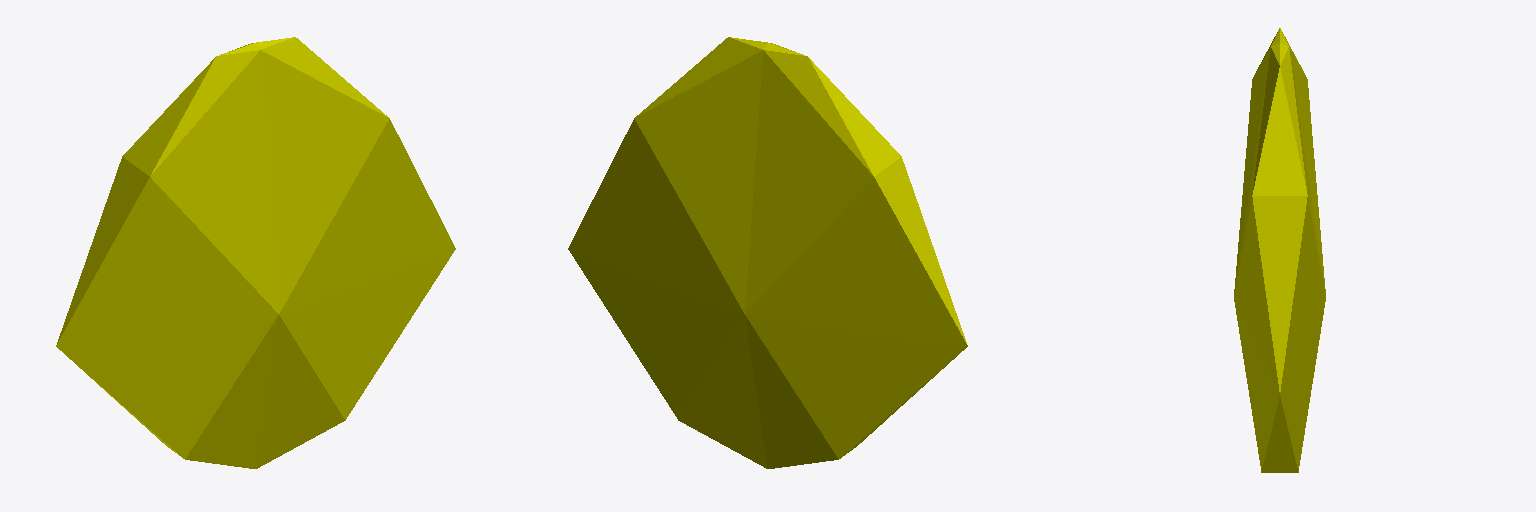
The model's file is yellowButton.obj.
3 views of the same model, side by side, from view 1: azimuth 30°, elevation 25°; view 2: azimuth 150°, elevation 25°; view 3: azimuth 270°, elevation 25° (orthographic).
Visible parts, largest first — view 1: Sphere; view 2: Sphere; view 3: Sphere.
Part boxes in pixels (x1,y1,x2,y2): Sphere: (56, 37, 455, 468); Sphere: (568, 37, 967, 468); Sphere: (1234, 28, 1325, 472).
Bounding box in the file's own units: 1.96 × 2 × 0.3923.